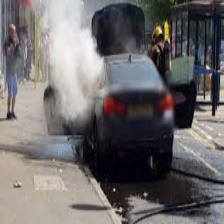smoke: (48, 5, 94, 111)
